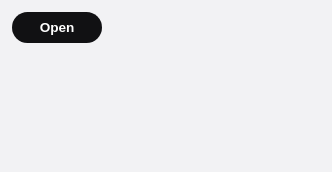
Test: LaunchButton Component & Execution Layer › LaunchButton Timer & State Recovery Lifecycle › cleans up pending timer on component unmount without error
Click the button with aria-label "open application app_unmount" at coordinates (57, 28), box [12,12,102,43]
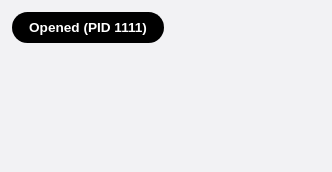
Now the button with aria-label "open application app_unmount" reads "Opened (PID 1111)", box [12,12,164,43]
